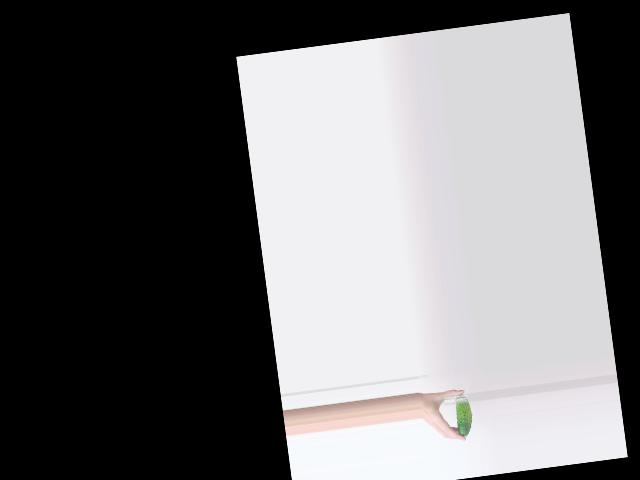cucumber: (453, 392, 475, 436)
